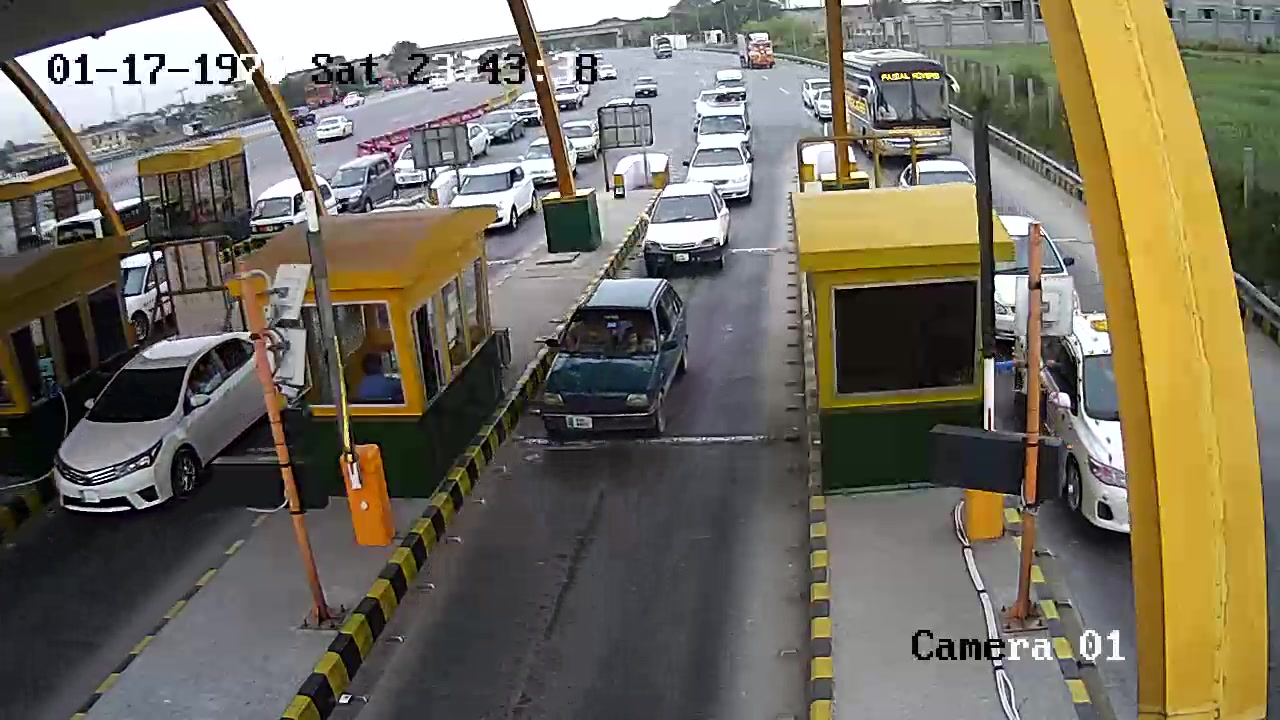F1: (538, 273, 702, 457)
